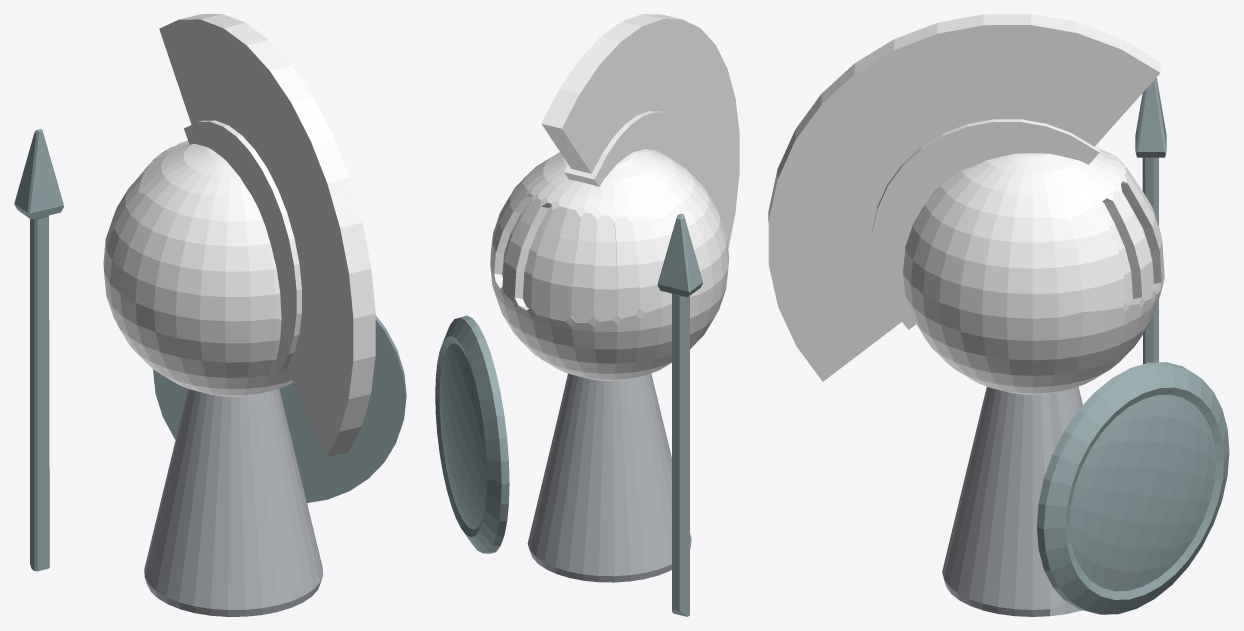
File: Knight_White_Walk_01.fbx
The picture shows the model from 3 angles, left to right: view 1: azimuth 30°, elevation 25°; view 2: azimuth 150°, elevation 25°; view 3: azimuth 270°, elevation 25°; orthographic projection. The views are drawn at different scales.
Parts seen in each view (by area): view 1: main body.002; view 2: main body.002; view 3: main body.002.
Boxes of the visible parts, left/top/right/bottom form: main body.002: left=14, top=14, right=406, bottom=616; main body.002: left=435, top=14, right=739, bottom=616; main body.002: left=768, top=14, right=1229, bottom=616.
Bounding box in the file's own units: 293 × 468 × 349.
1 material, 1 textured.
